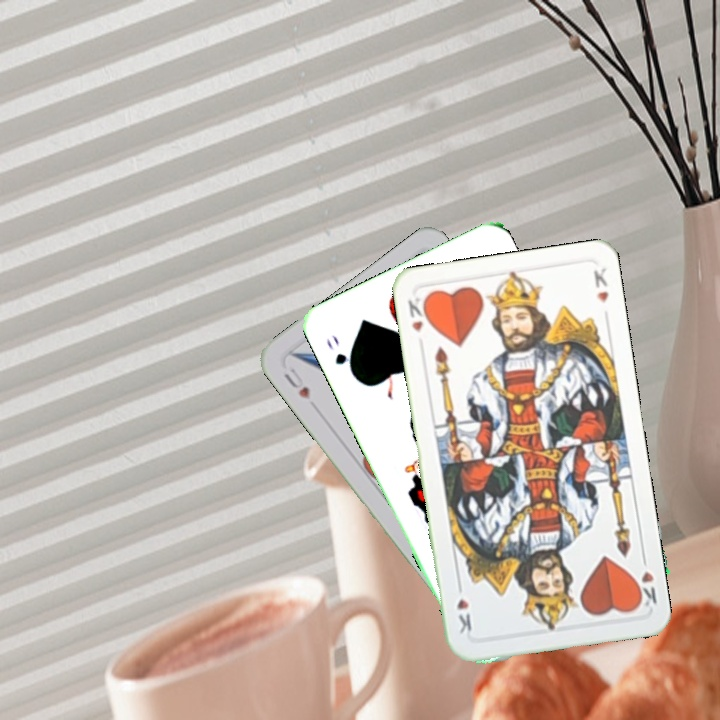GO: (322, 330, 359, 380)
HK: (630, 551, 660, 610), (404, 290, 432, 335)
HU: (280, 361, 313, 402)
